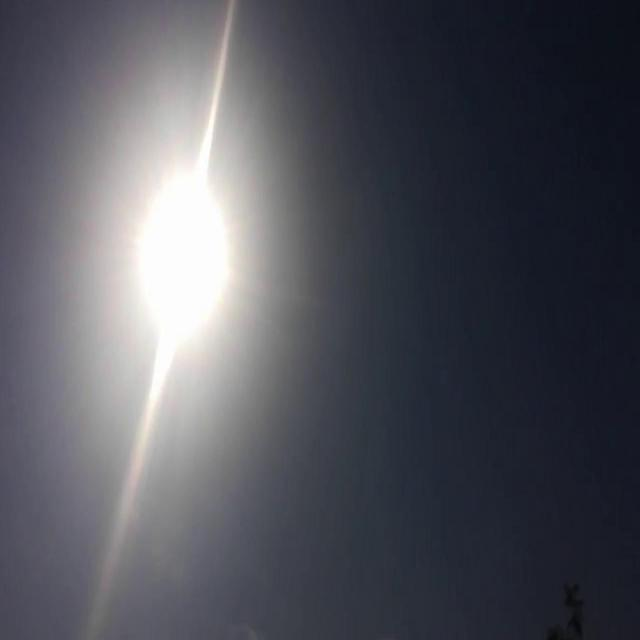other: (132, 156, 224, 359)
